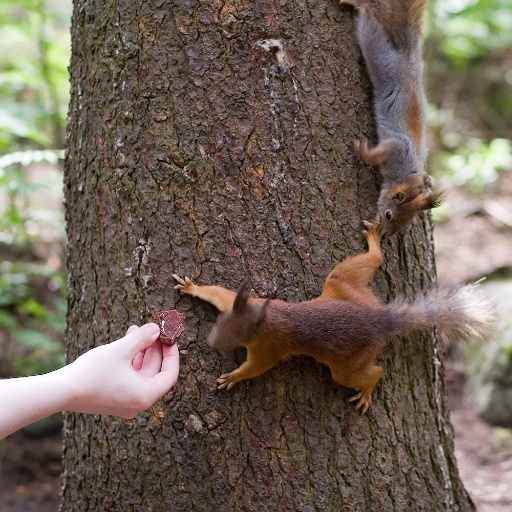hand: (62, 309, 188, 439)
